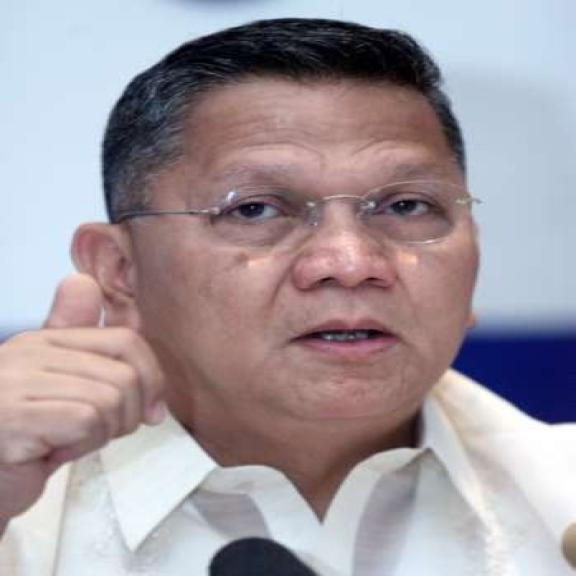face: (77, 88, 498, 429)
